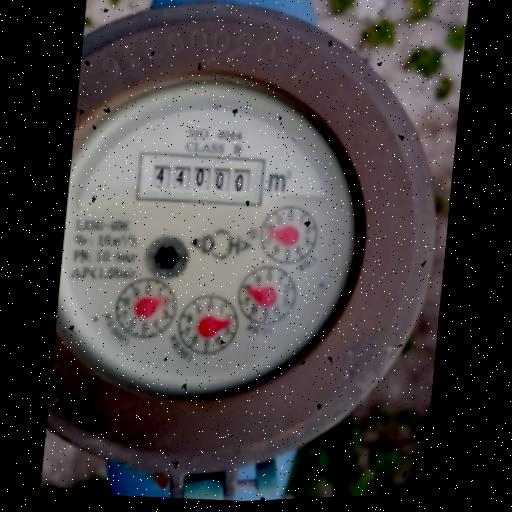0: (194, 167, 211, 191), (234, 169, 250, 192), (215, 169, 230, 191)
4: (153, 166, 170, 191), (174, 166, 191, 190)
border_water_meter_number: (134, 146, 266, 212)
